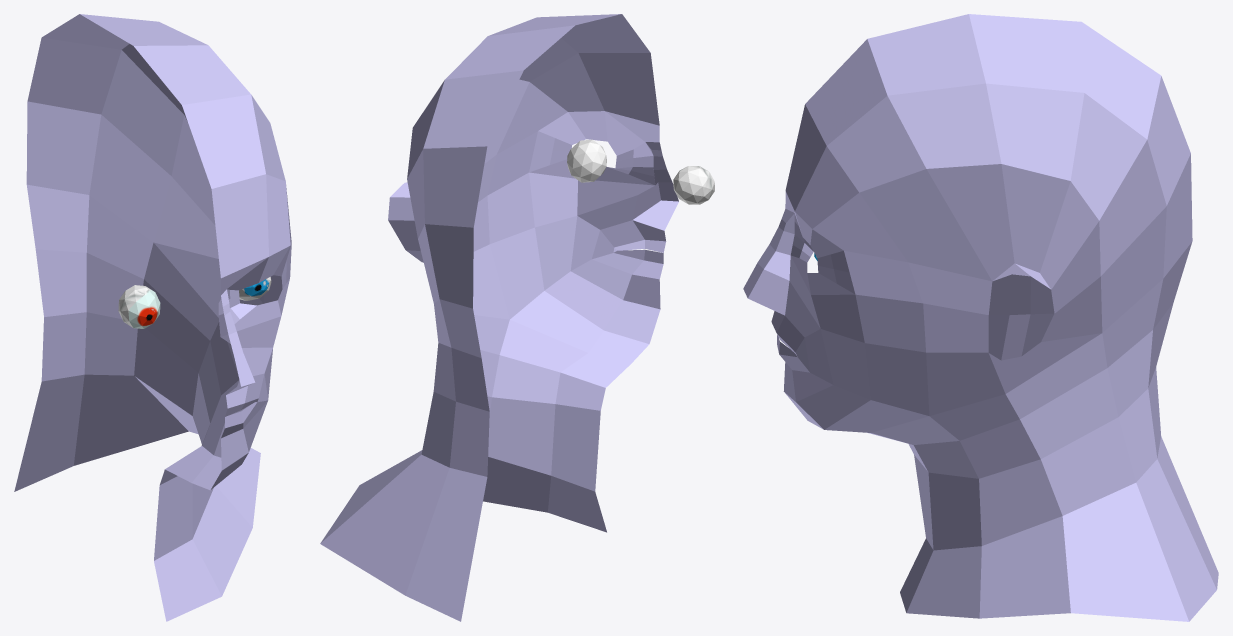
The model's file is Aldo_perfeito.glb.
3 views of the same model, side by side, from view 1: azimuth 30°, elevation 25°; view 2: azimuth 150°, elevation 25°; view 3: azimuth 270°, elevation 25° (orthographic). The views are drawn at different scales.
Visible parts, largest first — view 1: Face, LEye, REye; view 2: Face, REye, LEye; view 3: Face.
Part boxes in pixels (box(x1,y1,x2,y2)): Face: box(14, 14, 291, 621); LEye: box(118, 285, 160, 328); REye: box(239, 277, 271, 300); Face: box(320, 14, 678, 621); REye: box(567, 139, 606, 182); LEye: box(673, 166, 714, 204); Face: box(743, 14, 1218, 621).
Bounding box in the file's own units: 1.44 × 2.99 × 2.23.
Materials: 3 (3 with a texture image).
